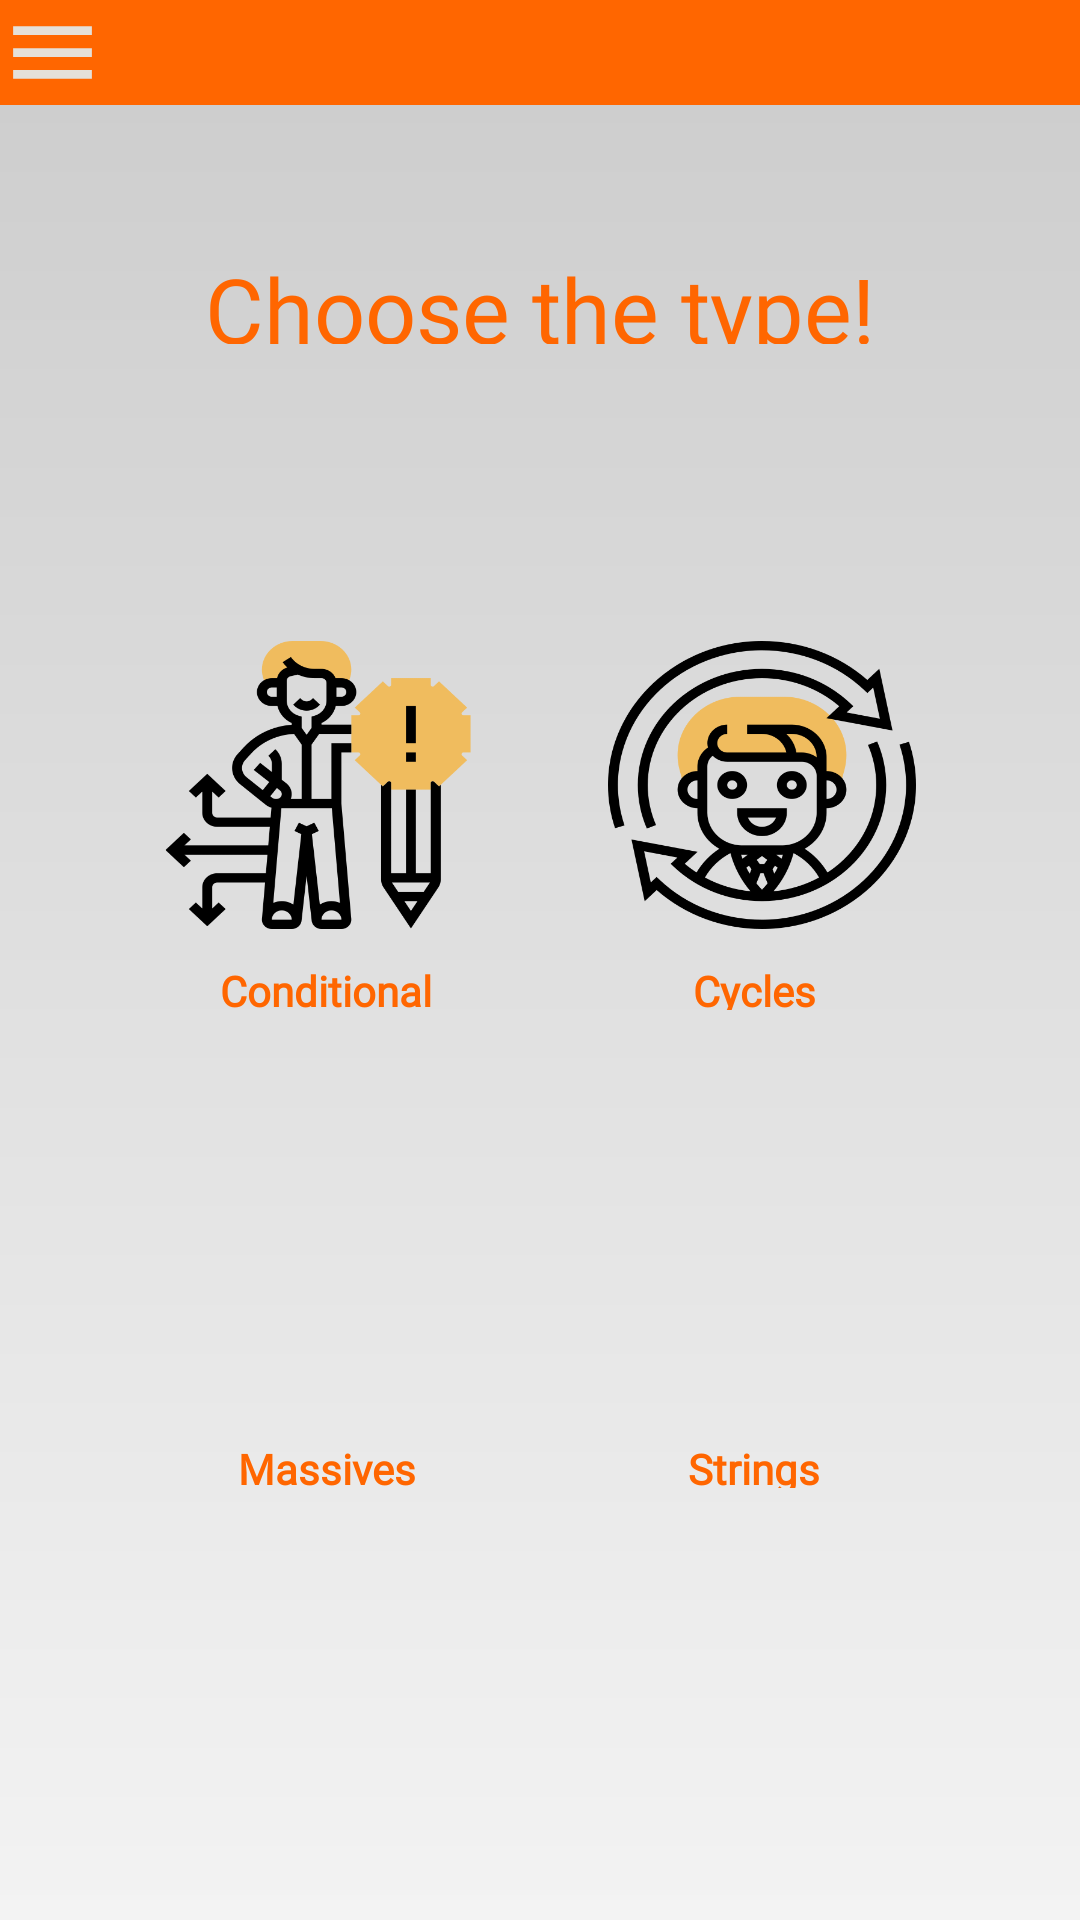

Named icons in this screenshot (1080x1920) and their centers, (x=x, y=y):
menu: (x=52, y=52)
